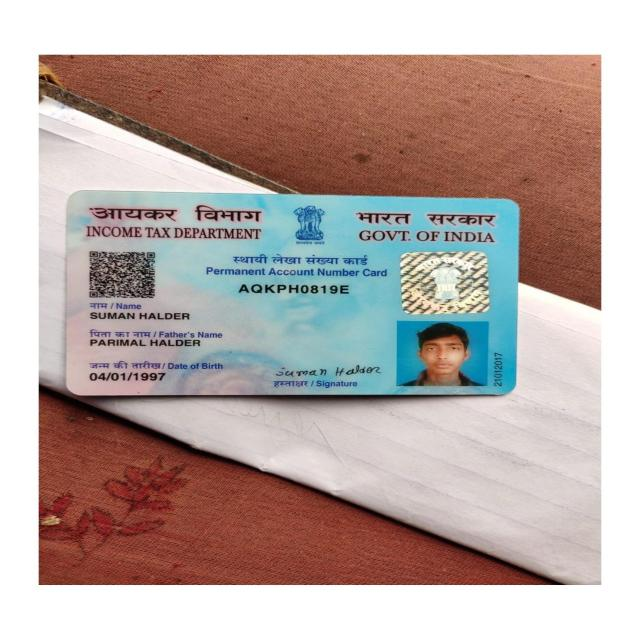pan_card: (71, 193, 512, 393)
